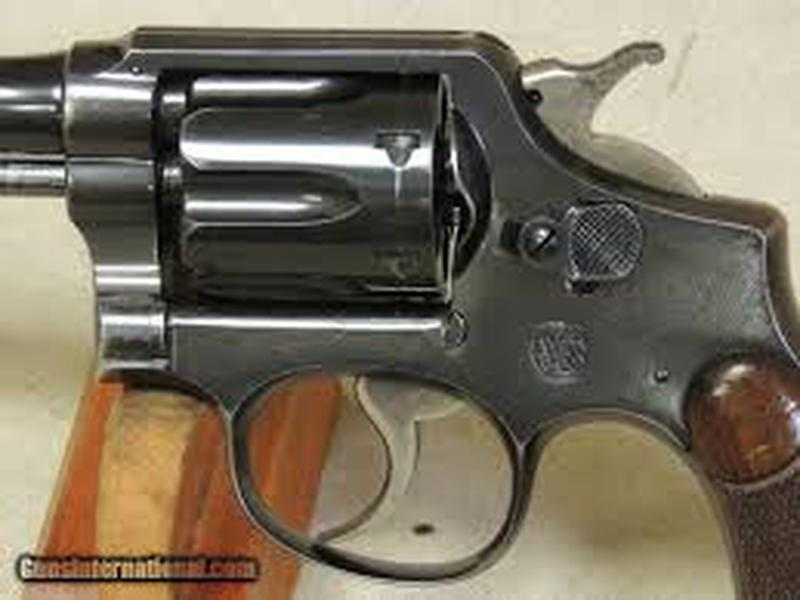gun: (1, 24, 796, 600)
